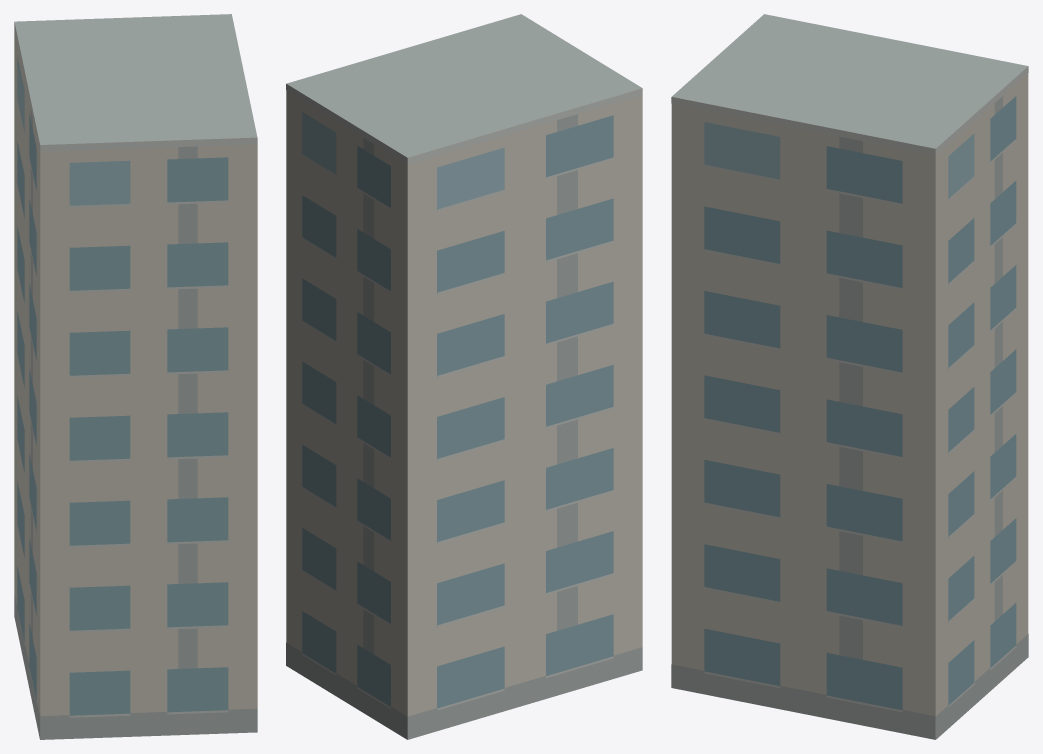
The model's file is survey-upis-32952010.glb.
3 views of the same model, side by side, from view 1: azimuth 30°, elevation 25°; view 2: azimuth 150°, elevation 25°; view 3: azimuth 270°, elevation 25° (orthographic). The views are drawn at different scales.
Visible parts, largest first — view 1: survey-upis-32952010.tmp; view 2: survey-upis-32952010.tmp; view 3: survey-upis-32952010.tmp.
Part boxes in pixels (x1,y1,x2,y2): survey-upis-32952010.tmp: [14, 14, 257, 739]; survey-upis-32952010.tmp: [286, 14, 642, 739]; survey-upis-32952010.tmp: [671, 14, 1028, 739].
Bounding box in the file's own units: 10.48 × 21.4 × 11.72.
